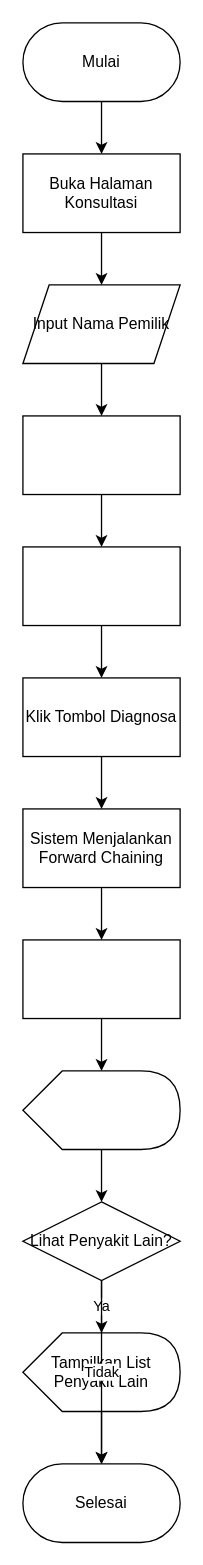
Image size: 203x1565. Some labels were removed from this diagram. Each missing label, with the box of its shape:
Pilih Gejala Fisik - Langkah 1: (22, 415, 180, 495)
Pilih Gejala Perilaku - Langkah 2: (22, 546, 180, 626)
Simpan Hasil ke Database: (22, 939, 180, 1019)
Tampilkan Halaman Hasil: (22, 1070, 180, 1150)
